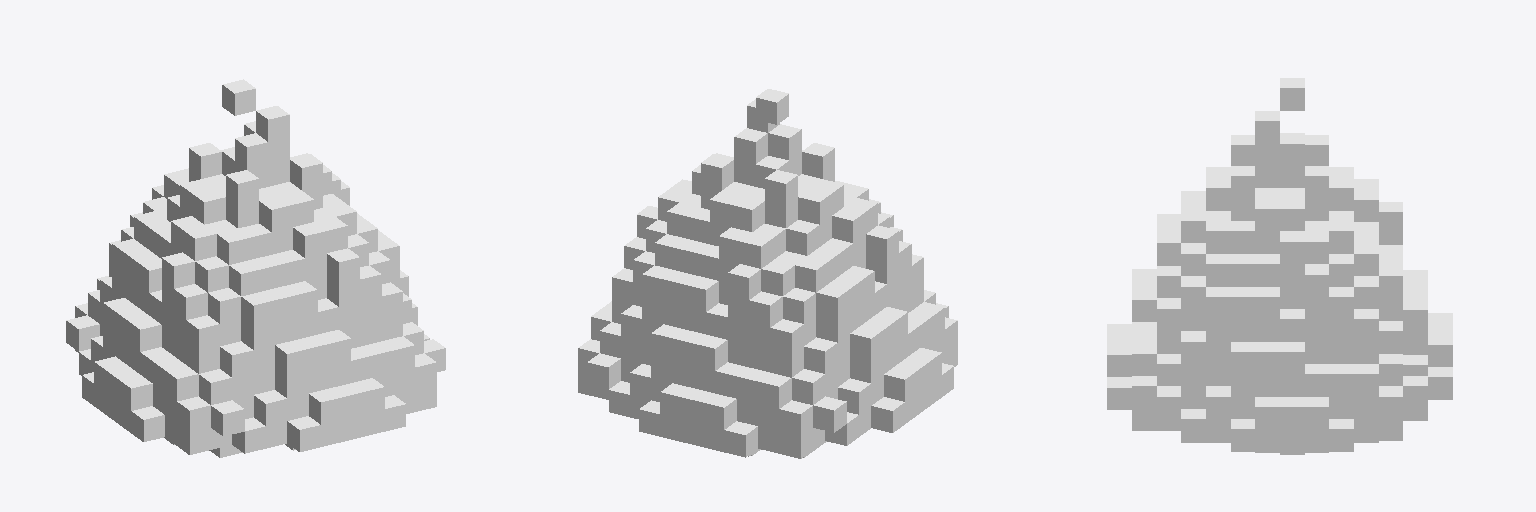
The model's file is cream.obj.
3 views of the same model, side by side, from view 1: azimuth 30°, elevation 25°; view 2: azimuth 150°, elevation 25°; view 3: azimuth 270°, elevation 25° (orthographic).
Parts seen in each view (by area): view 1: object 1; view 2: object 1; view 3: object 1.
Part boxes in pixels (x1,y1,x2,y2): object 1: (66, 79, 445, 457); object 1: (578, 89, 957, 458); object 1: (1107, 78, 1452, 454).
Bounding box in the file's own units: 1.4 × 1.5 × 1.4.